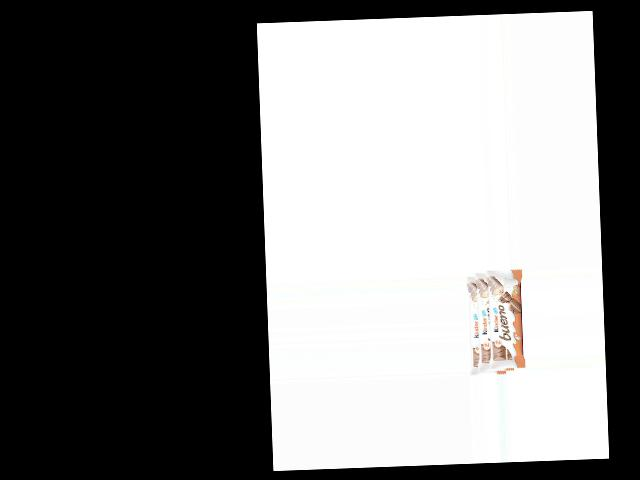chocolate: (466, 271, 526, 374)
